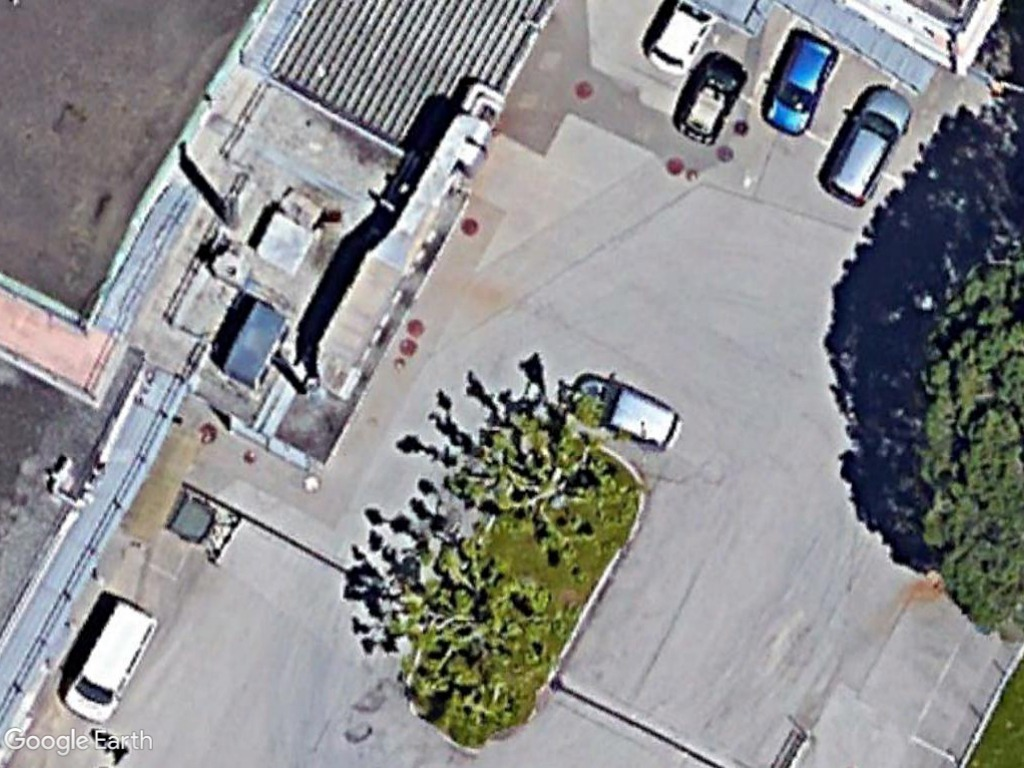car: (819, 84, 916, 210), (763, 32, 840, 134)
van: (52, 594, 161, 727)
